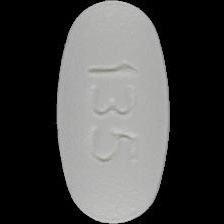0093-0135: (0, 0, 224, 224)
